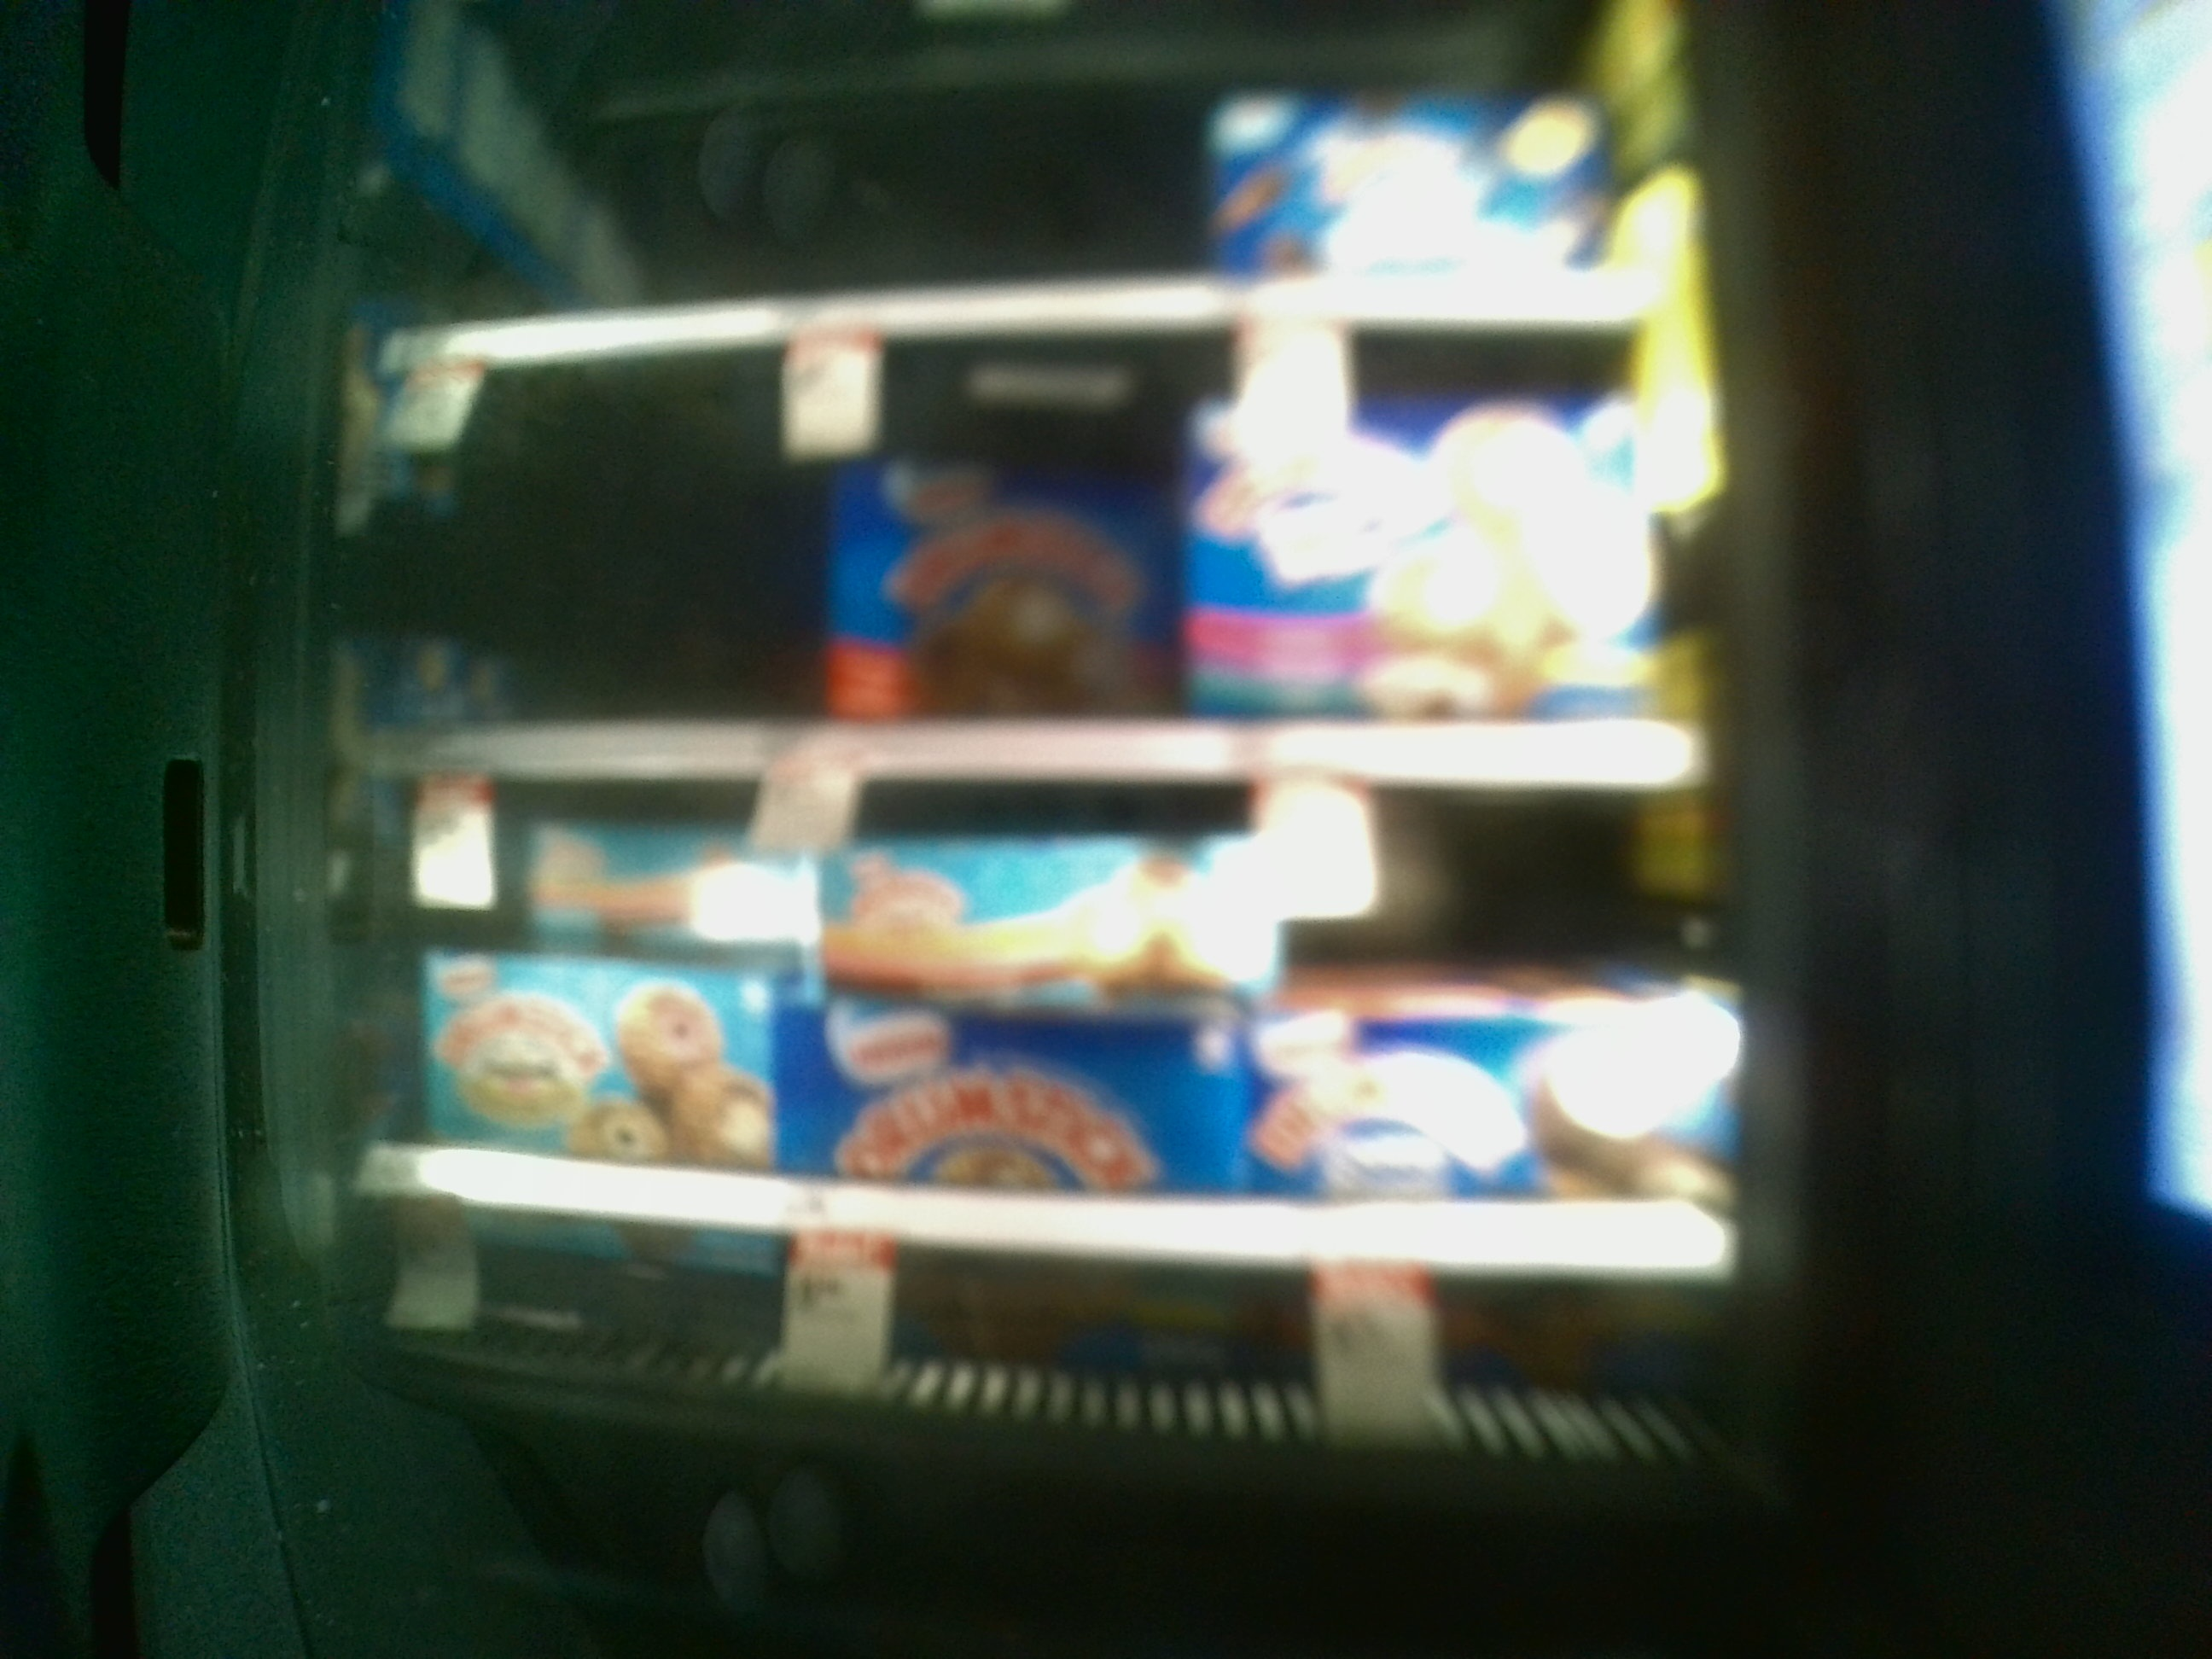shelf: (364, 774, 1757, 1441), (369, 362, 1735, 779)
